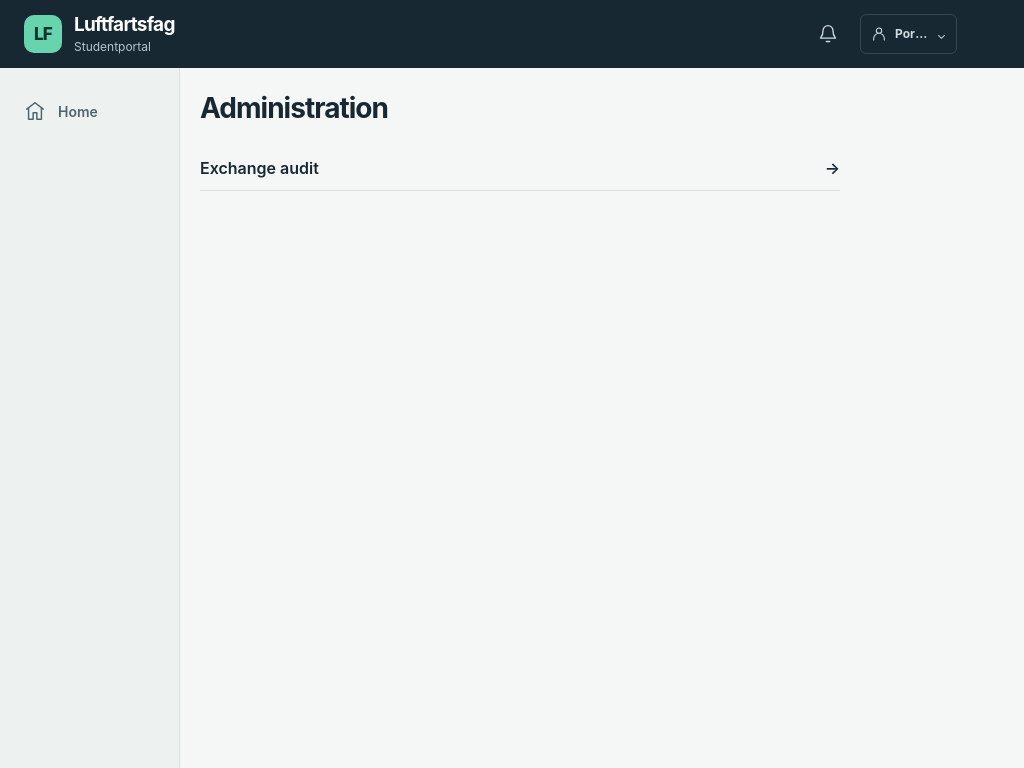
Test case: admin access editor › keeps admin.exchange_audit accessible through Administration
Step 1. Click the button with class "current-user" → (908, 34), box [860, 14, 957, 54]
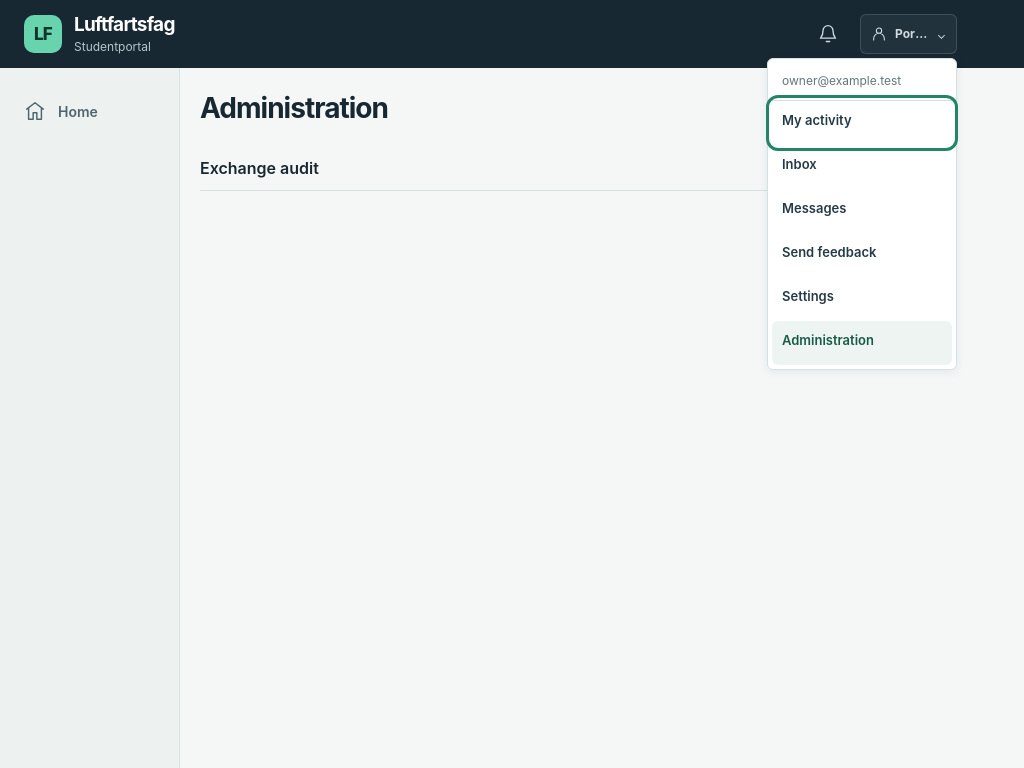
Result: the link to "/admin" is shown at [772, 321, 952, 365]
